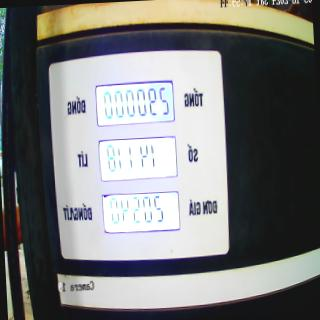screen: (94, 75, 183, 238)
